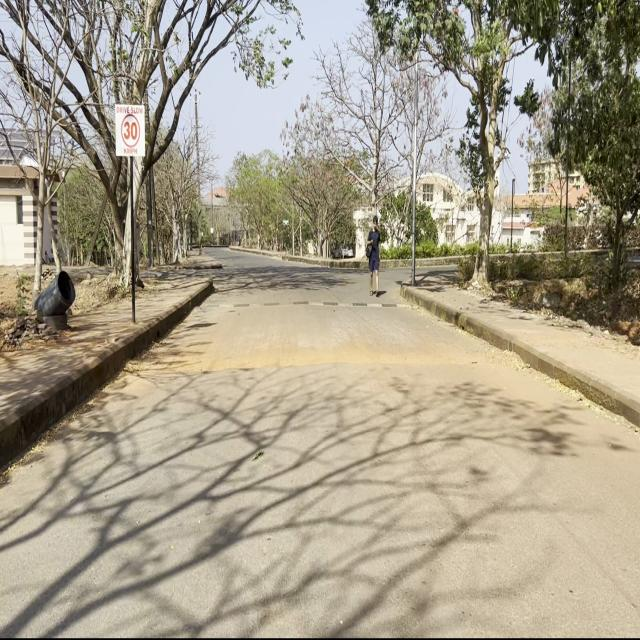Object: (369, 208, 384, 304)
Road: (3, 255, 637, 636)
